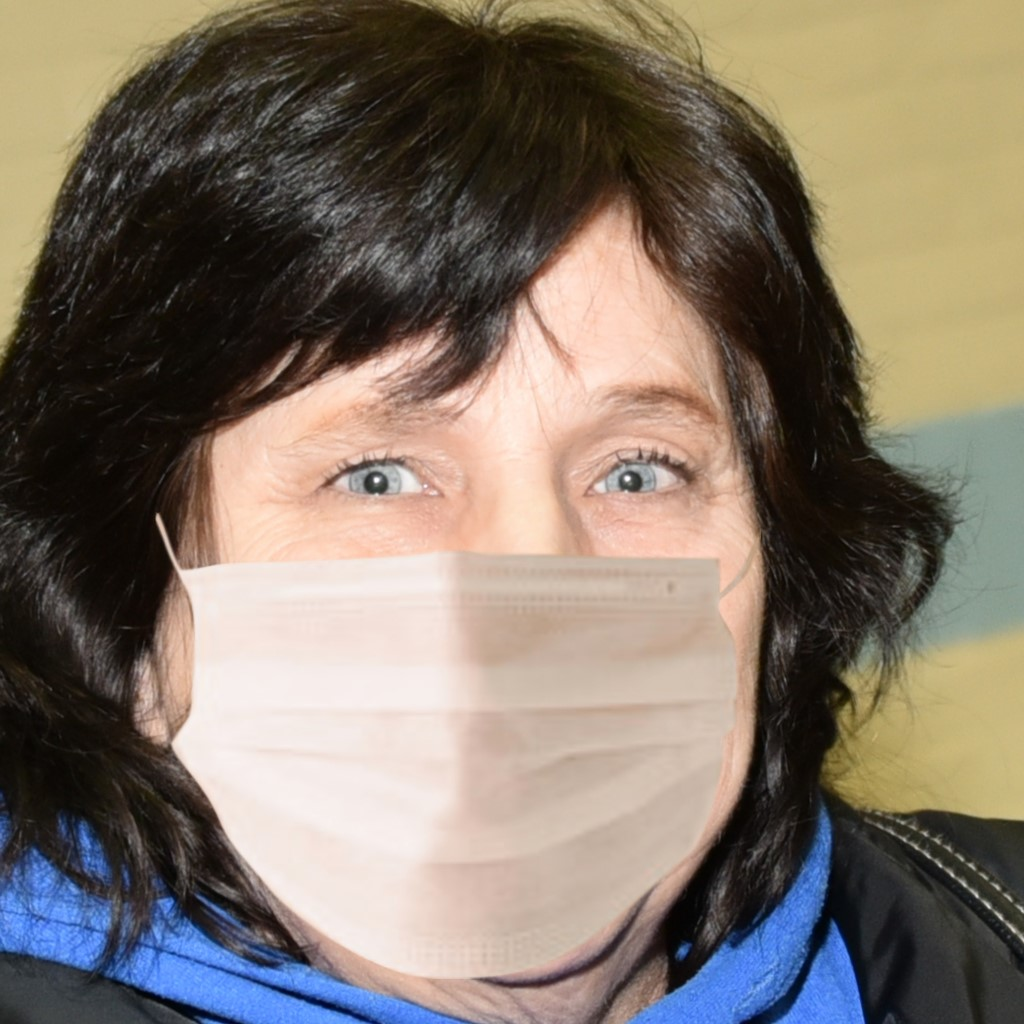con_mascara: (160, 195, 768, 965)
